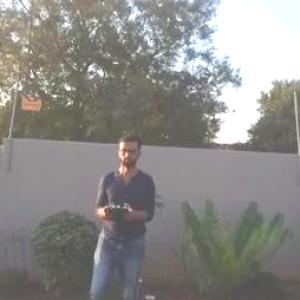follow: (85, 126, 163, 299)
